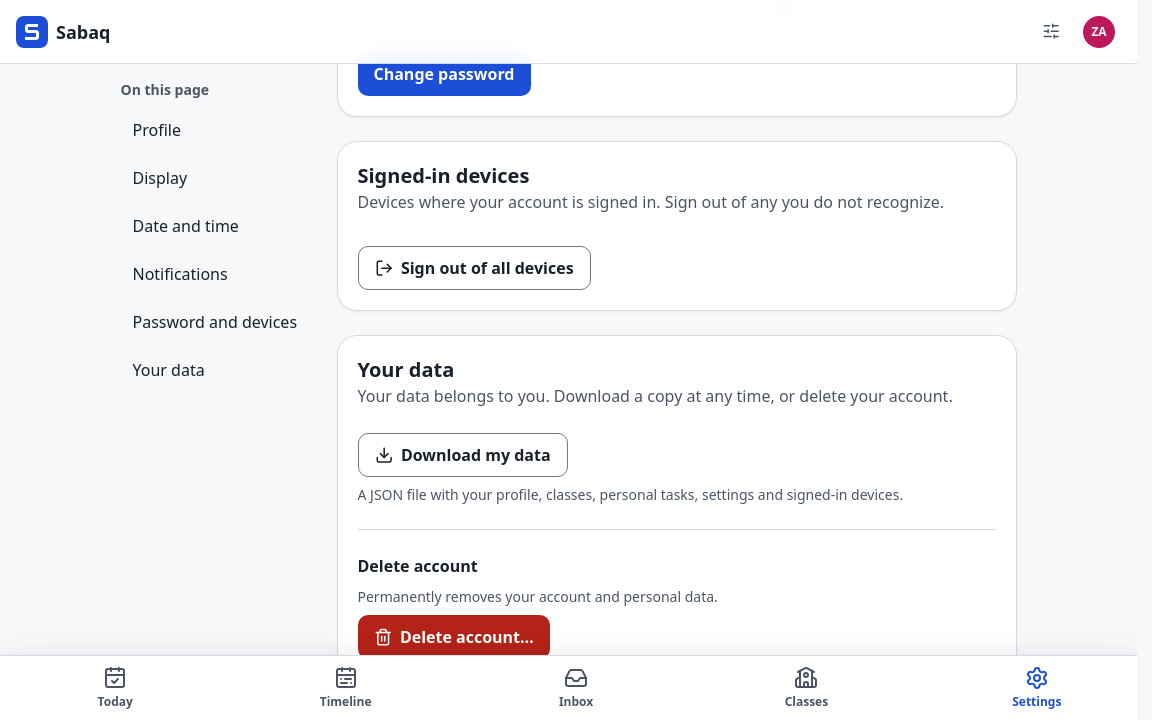
Scenario: settings › downloads a copy of the data
(page scrolled)
What coordinates should you click on to do the following:
click the button "Download my data"
I would click on:
 (463, 455)
Its box is [358,433,568,477].
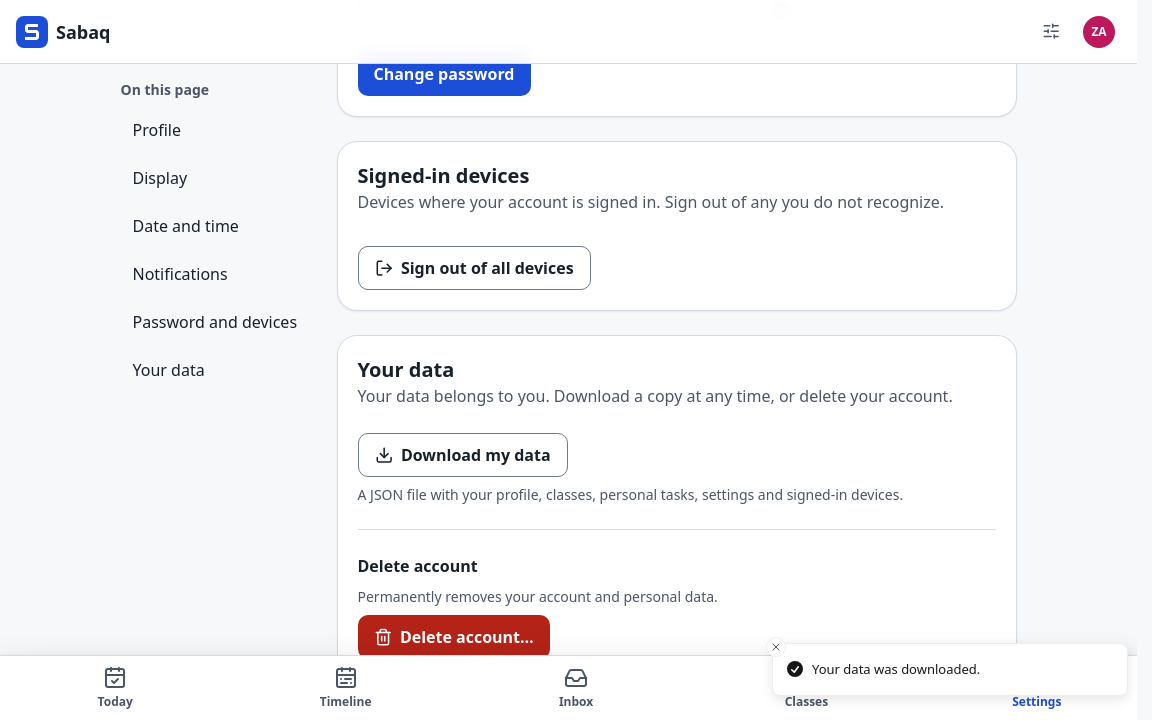
Now the text "Your data was downloaded." is shown, box [812,660,980,679]
